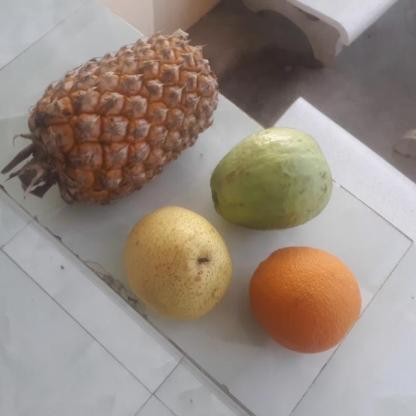guava: (206, 130, 330, 228)
orange: (245, 247, 363, 353)
pear: (116, 207, 233, 318)
pineapple: (22, 39, 210, 207)
